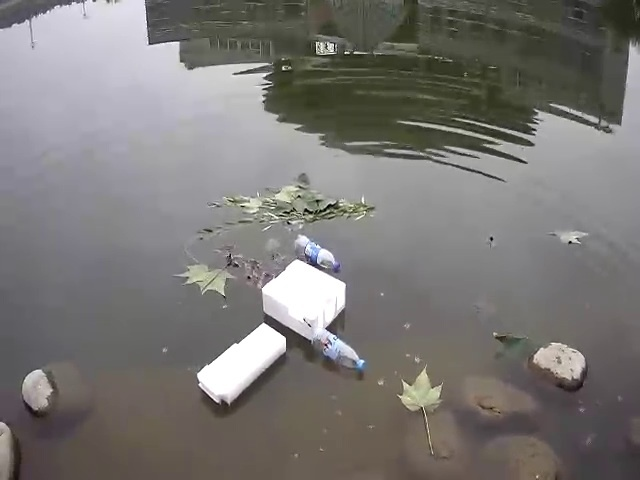bottle: (307, 330, 368, 373), (282, 229, 341, 270)
leaf: (210, 180, 376, 230), (390, 372, 445, 417), (172, 260, 232, 301), (556, 223, 589, 249)
paomo: (187, 319, 291, 402), (255, 261, 350, 332)
